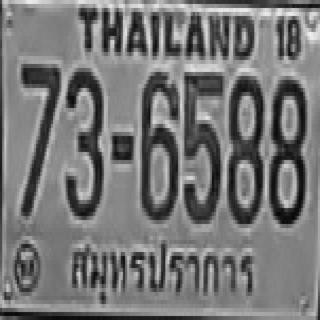N03: (64, 64, 106, 223)
N05: (182, 68, 223, 226)
N06: (139, 70, 179, 224)
N07: (19, 60, 62, 220)
N08: (267, 74, 308, 227), (227, 72, 265, 228)
P57: (63, 234, 254, 308)
